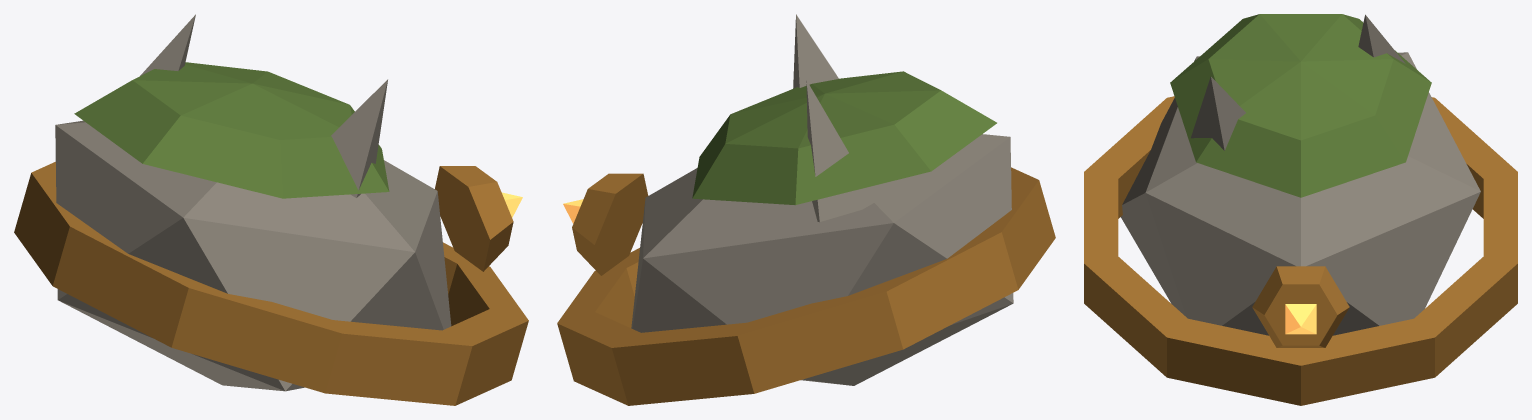
The model's file is Armor_Earth_Pauldron_L.fbx.
3 views of the same model, side by side, from view 1: azimuth 30°, elevation 25°; view 2: azimuth 150°, elevation 25°; view 3: azimuth 270°, elevation 25° (orthographic). The views are drawn at different scales.
Visible parts, largest first — view 1: Armor_Earth_Pauldron_L; view 2: Armor_Earth_Pauldron_L; view 3: Armor_Earth_Pauldron_L.
Part boxes in pixels (bbox=[...]): Armor_Earth_Pauldron_L: bbox=[14, 14, 528, 405]; Armor_Earth_Pauldron_L: bbox=[557, 14, 1055, 405]; Armor_Earth_Pauldron_L: bbox=[1084, 14, 1517, 405].
Bounding box in the file's own units: 0.3788 × 0.2643 × 0.3555.
